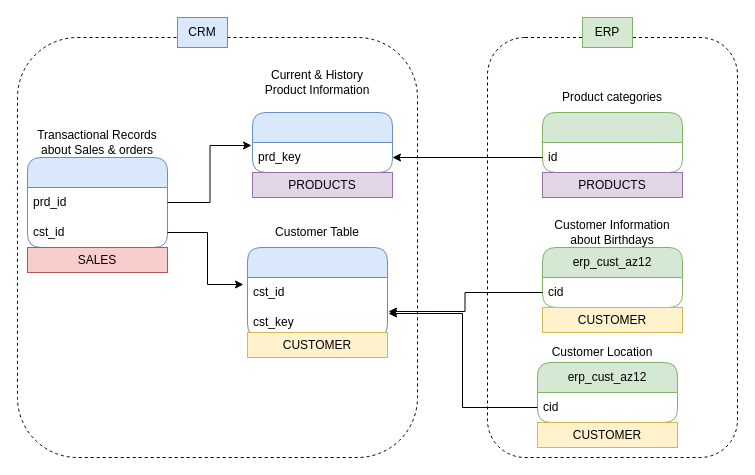
This 755x475 diagram has some shape labels left out. The box of each missing label's shape, as (x1, y1, x2, y2) in pixels:
crm_cust_info: (246, 246, 388, 338)
crm_prd_info: (252, 112, 392, 172)
crm_sales_details: (26, 156, 168, 248)
erp_px_cat_g1v2: (542, 112, 682, 172)
